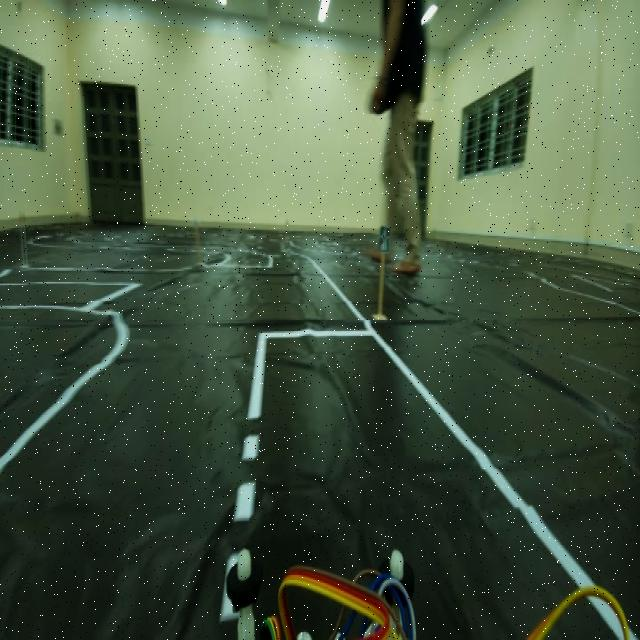highway_exit: (376, 220, 390, 268)
